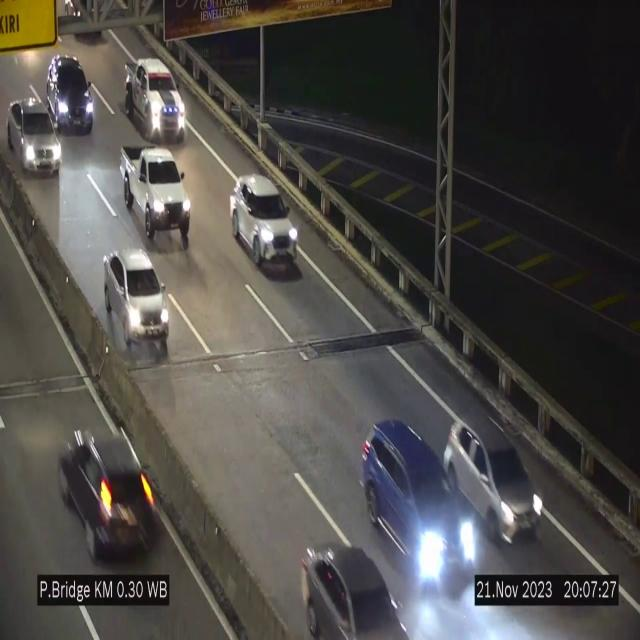Car: (364, 413, 471, 580), (443, 409, 544, 540), (101, 245, 172, 348), (120, 146, 190, 248), (226, 174, 296, 273), (124, 58, 186, 142), (4, 95, 63, 179), (47, 56, 99, 135)
